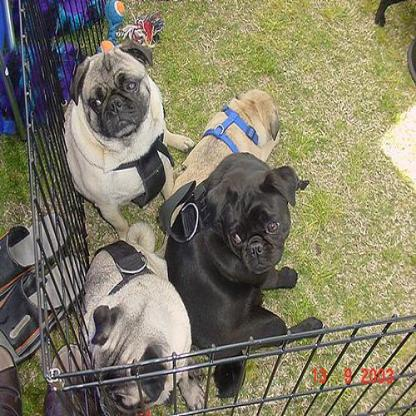pug: (164, 152, 325, 399), (63, 41, 195, 240), (80, 220, 190, 414), (162, 86, 282, 224)
